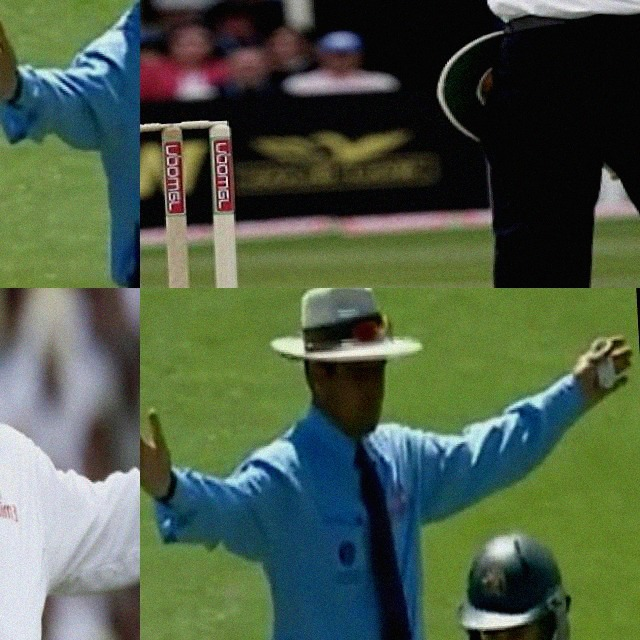Out: (391, 0, 640, 288)
Wide: (140, 288, 640, 640), (0, 288, 140, 640), (0, 0, 140, 202)
